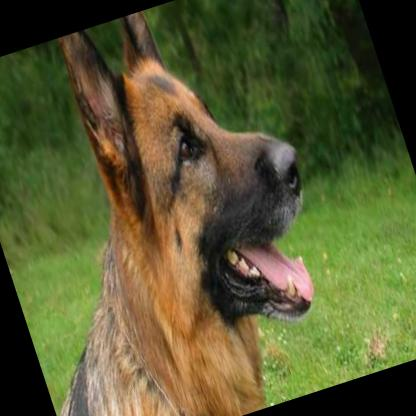German_shepherd: (0, 0, 367, 416)
